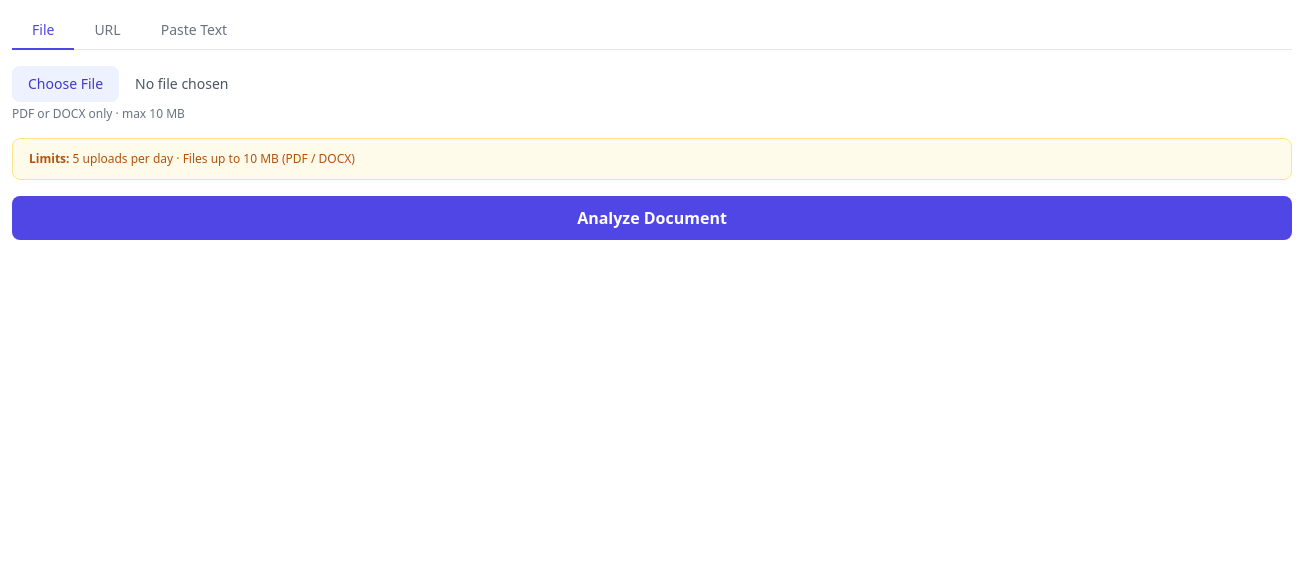
Test: shows rate-limit message on 429 from API
Click the tab "Paste Text". click: (194, 31)
box: [141,12,247,50]
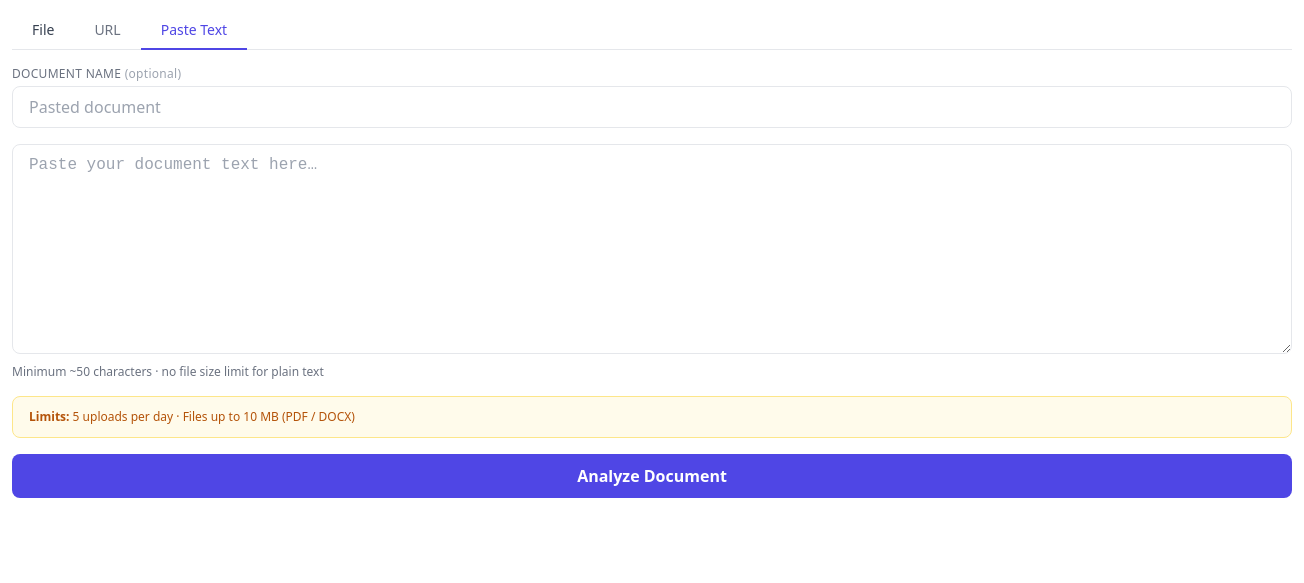
Type "This is a legal document with enough content to pass the minimum length validation requirement for analysis." into the text box with placeholder "Paste your document text here…". click: (652, 249)
box: [12,144,1292,354]
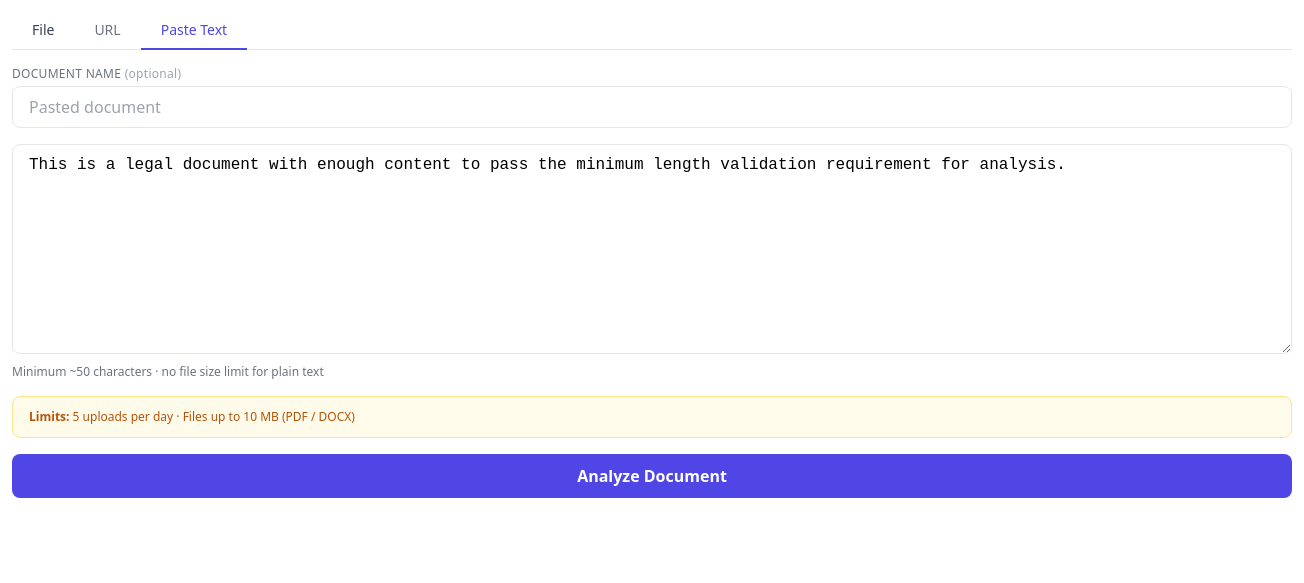
Click the button "Analyze Document". click: (652, 476)
box: [12,454,1292,498]
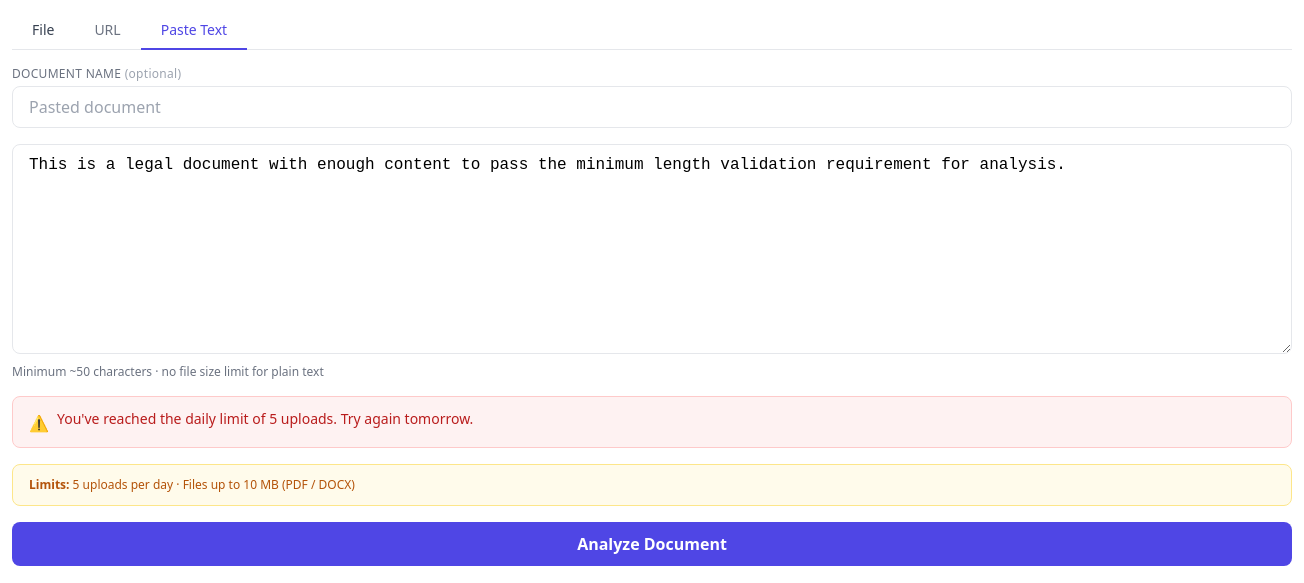
Now the message shows "daily limit", box [57,409,473,428]
